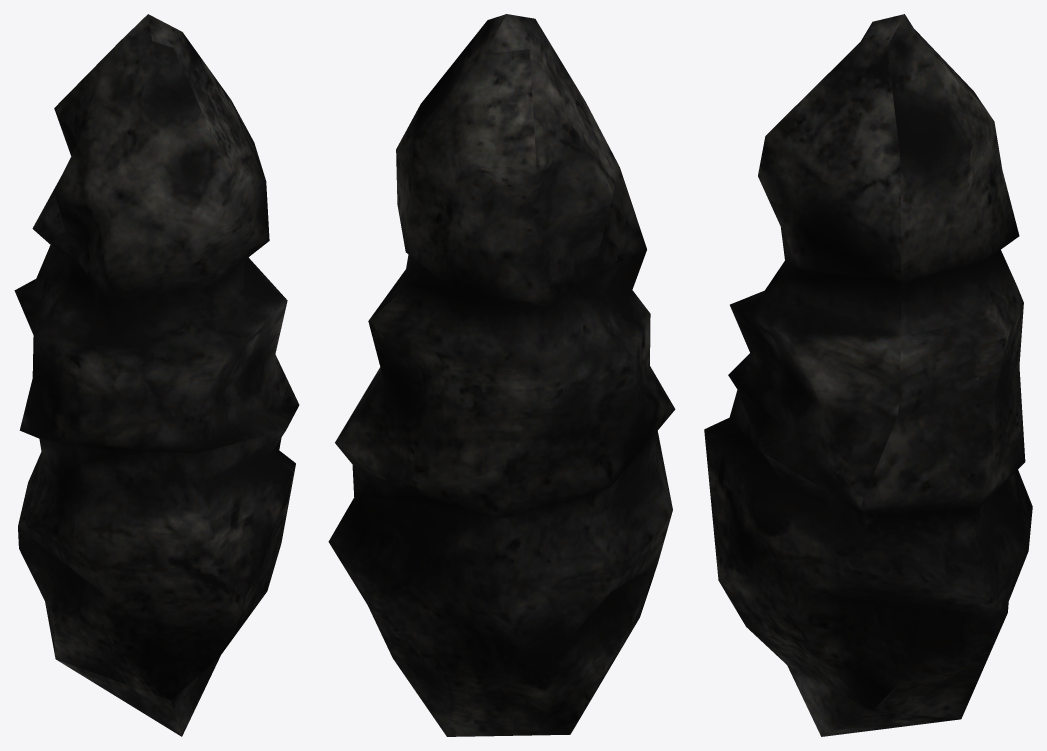
Rendered from monolith02.dae.
3 views of the same model, side by side, from view 1: azimuth 30°, elevation 25°; view 2: azimuth 150°, elevation 25°; view 3: azimuth 270°, elevation 25° (orthographic). The views are drawn at different scales.
Parts seen in each view (by area): view 1: monolith02; view 2: monolith02; view 3: monolith02.
Boxes of the visible parts, x1,y1,x2,y2 form: monolith02: (14, 14, 299, 736); monolith02: (328, 14, 675, 736); monolith02: (704, 14, 1032, 736).
Bounding box in the file's own units: 1.52 × 4.04 × 1.66.
